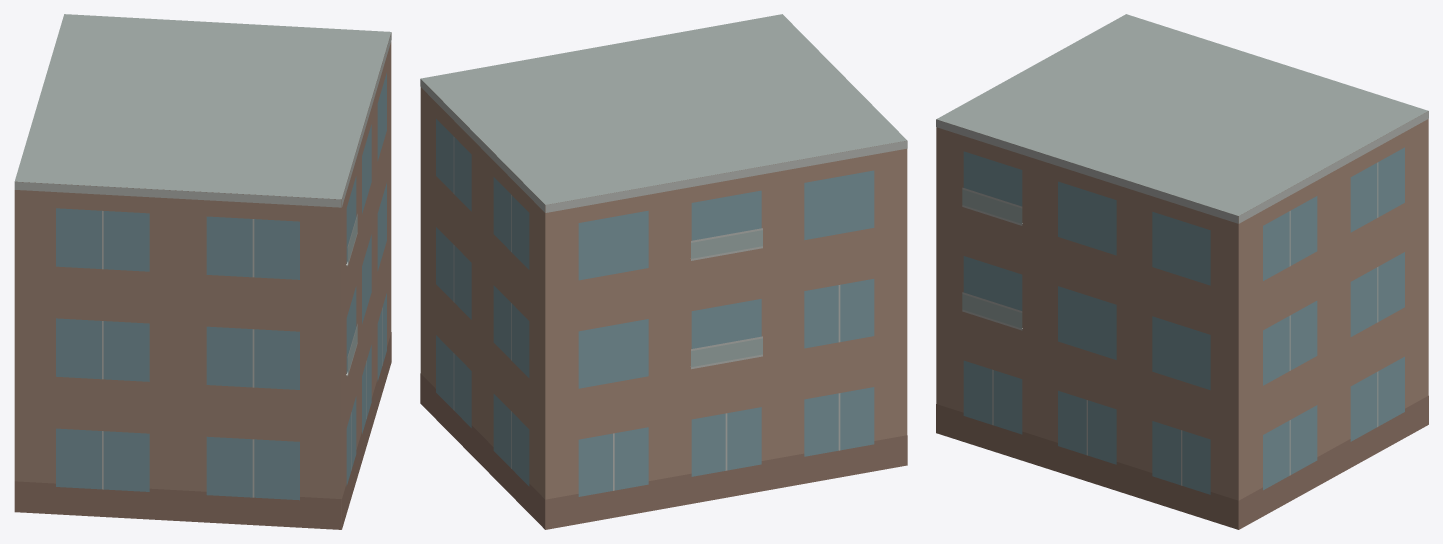
File: survey-upis-32636412.glb
3 renders of one model, left to right at view 1: azimuth 30°, elevation 25°; view 2: azimuth 150°, elevation 25°; view 3: azimuth 270°, elevation 25°, orthographic. The views are drawn at different scales.
Parts seen in each view (by area): view 1: survey-upis-32636412.tmp; view 2: survey-upis-32636412.tmp; view 3: survey-upis-32636412.tmp.
Part boxes in pixels (bbox=[...]): survey-upis-32636412.tmp: bbox=[14, 14, 391, 529]; survey-upis-32636412.tmp: bbox=[420, 14, 907, 529]; survey-upis-32636412.tmp: bbox=[936, 14, 1428, 529].
Bounding box in the file's own units: 13.54 × 9.8 × 13.95.
